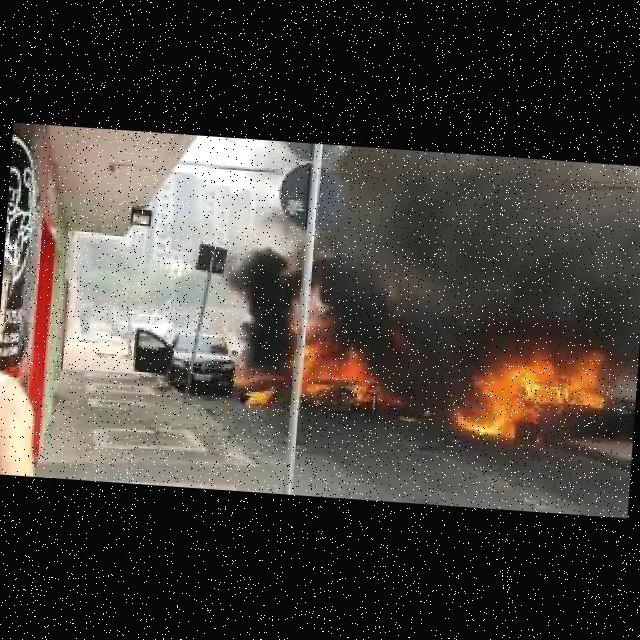Fire: (447, 342, 615, 445), (295, 301, 380, 402), (246, 383, 274, 409)
Smoke: (311, 150, 640, 397)
